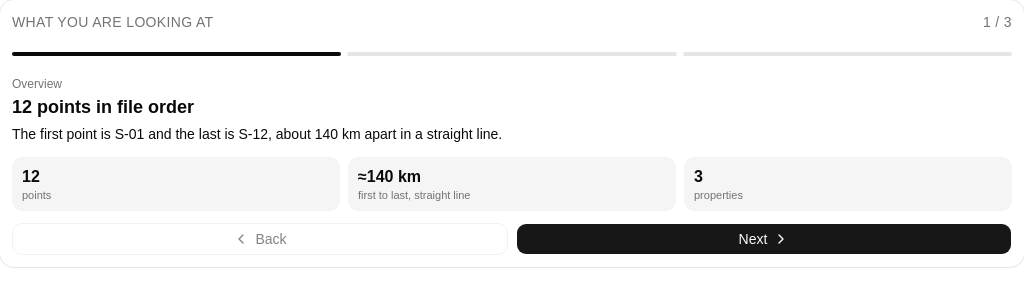
it: StoryPanel › moves through the chapters and back again
Click the button "Next".
click(764, 239)  # box [516,223,1012,255]
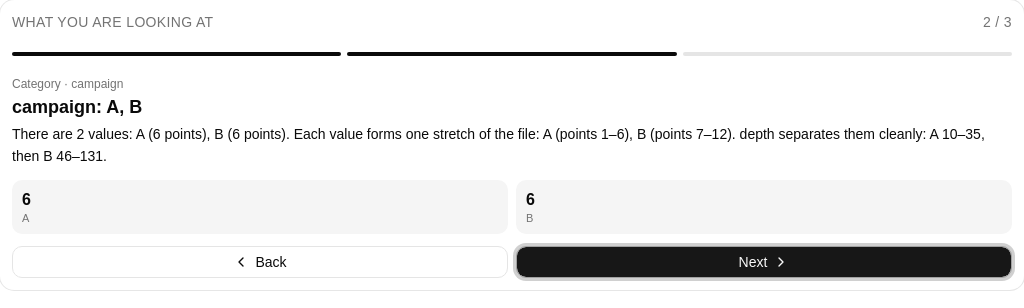
Check: the text "2 / 3" is shown, box [983,12,1012,32]
Check: the text "Category · campaign" is shown, box [12,77,123,91]
Click the button "Back".
click(260, 262)  # box [12,246,508,278]
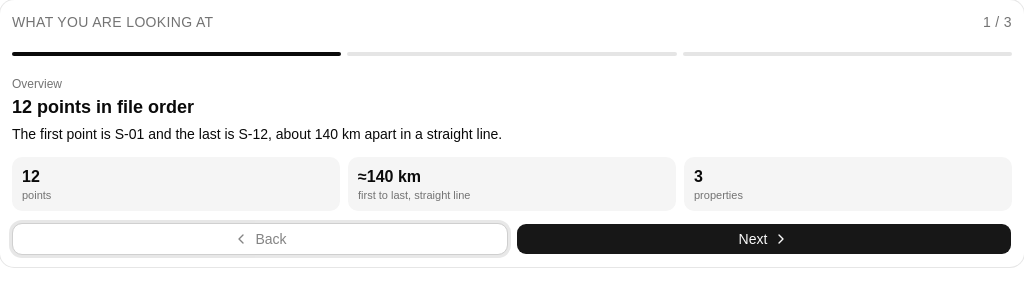
Check: the text "1 / 3" is shown, box [983,12,1012,32]
